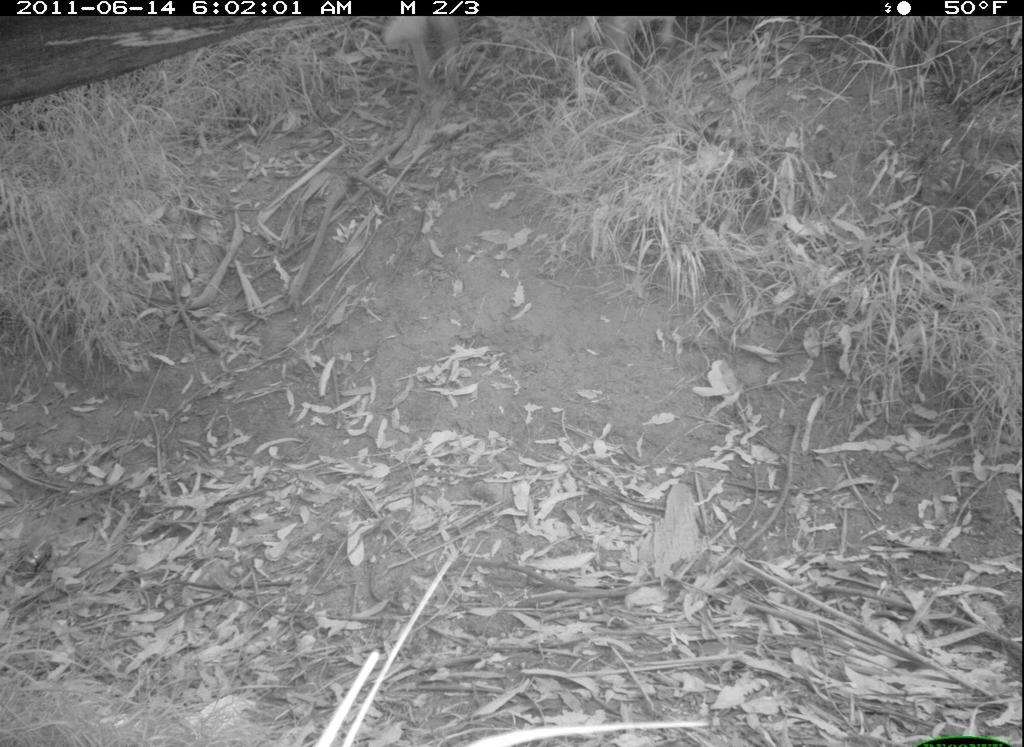dog: (380, 16, 473, 104)
